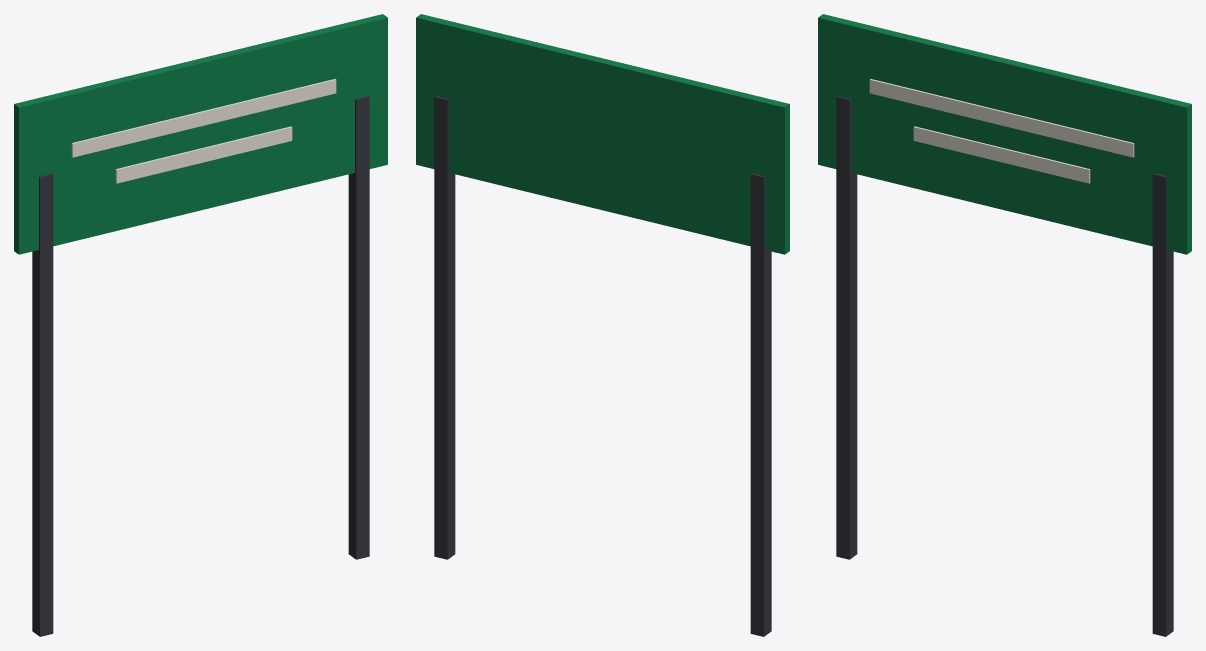
Rendered from direction_signboard.glb.
3 views of the same model, side by side, from view 1: azimuth 30°, elevation 25°; view 2: azimuth 150°, elevation 25°; view 3: azimuth 330°, elevation 25° (orthographic).
Parts seen in each view (by area): view 1: direction_signboard; view 2: direction_signboard; view 3: direction_signboard.
Part boxes in pixels (<box>): direction_signboard: <box>14,14,387,636</box>; direction_signboard: <box>416,14,789,636</box>; direction_signboard: <box>818,14,1191,636</box>.
Bounding box in the file's own units: 4.2 × 5.8 × 0.15.
